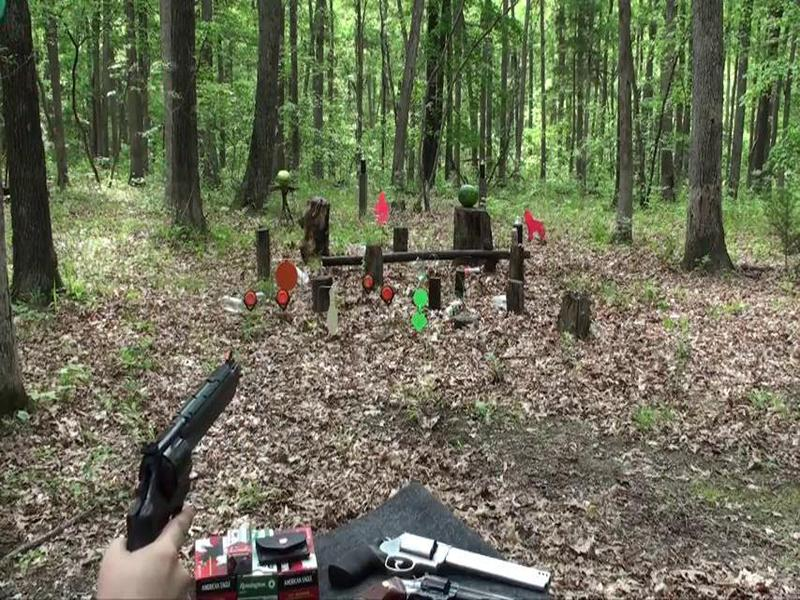Revolver: (114, 347, 259, 577)
